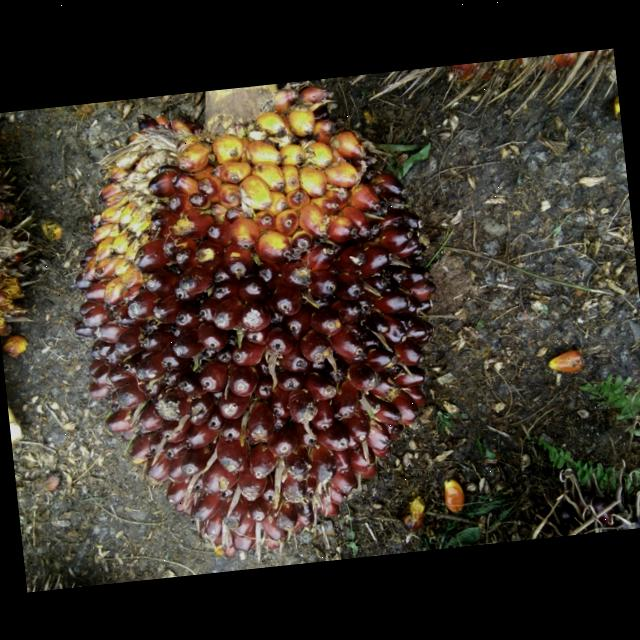Ripe: (76, 107, 448, 555)
